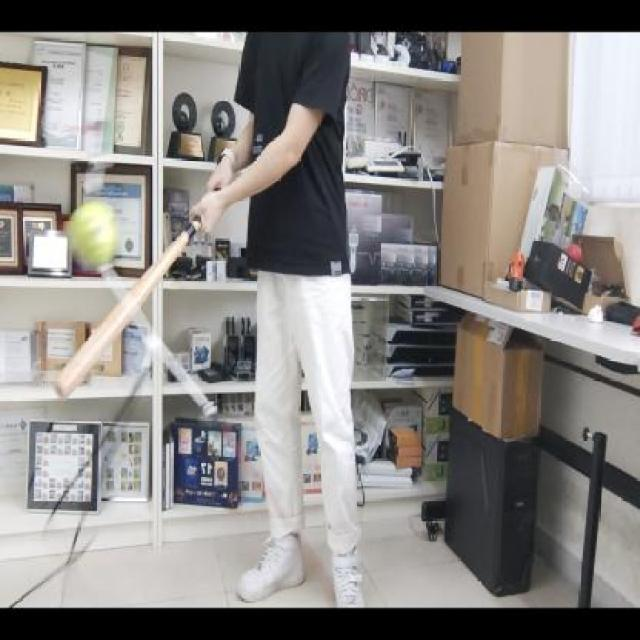baseball: (65, 202, 122, 270)
